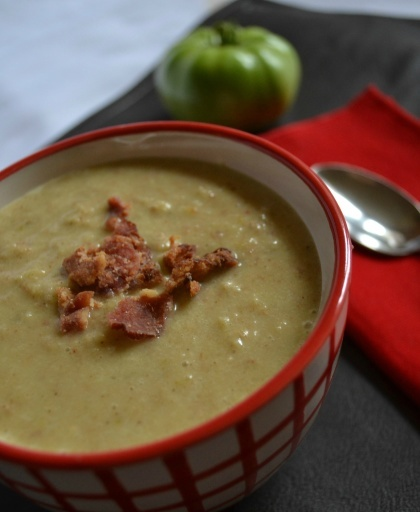background: (0, 123, 212, 360), (99, 16, 198, 102)
